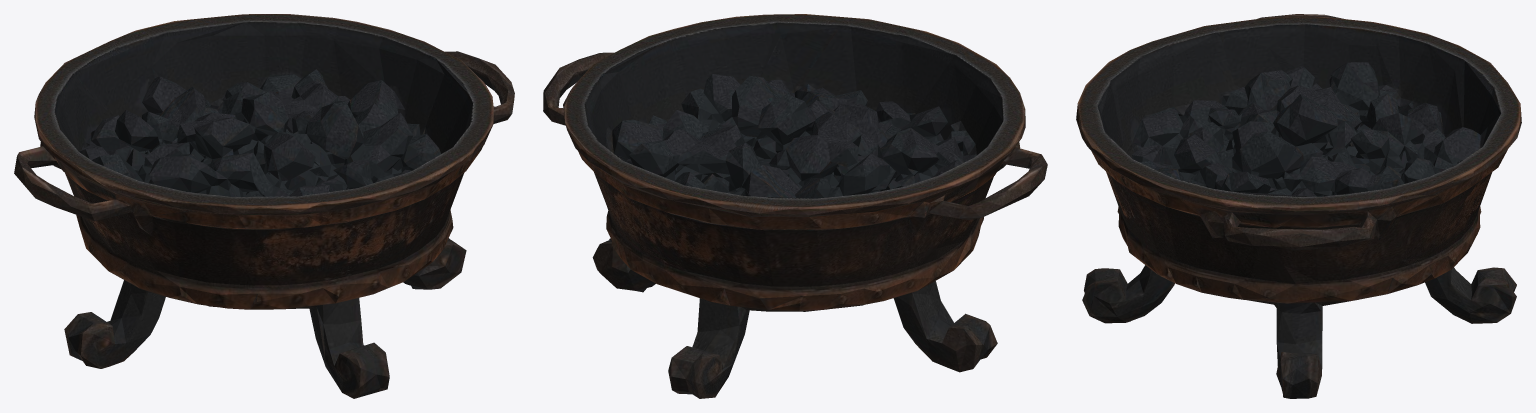
Rendered from brazier.glb.
3 views of the same model, side by side, from view 1: azimuth 30°, elevation 25°; view 2: azimuth 150°, elevation 25°; view 3: azimuth 270°, elevation 25° (orthographic). The views are drawn at different scales.
Parts seen in each view (by area): view 1: lo; view 2: lo; view 3: lo.
Boxes of the visible parts, x1,y1,x2,y2 form: lo: (14,14,514,398); lo: (543,14,1047,398); lo: (1076,14,1521,398).
Size of the model in its own units: 1.2 by 0.5671 by 1.01.
1 material, 1 textured.
